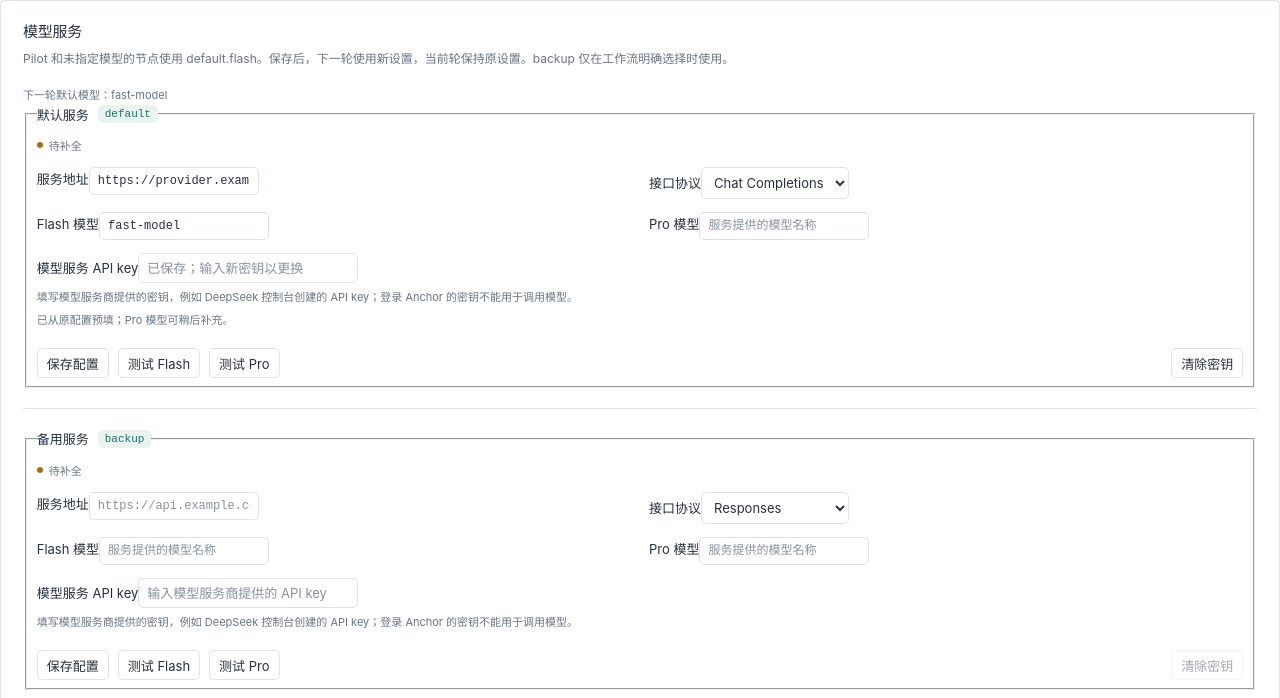
Scenario: Model provider settings › explains the known probe failure model connection test timed out without exposing raw errors
This screenshot has width=1280, height=698.
Click the button "测试 Flash" below "已从原配置预填；Pro 模型可稍后补充。" at (159, 363), box x1=118 y1=348 x2=200 y2=378
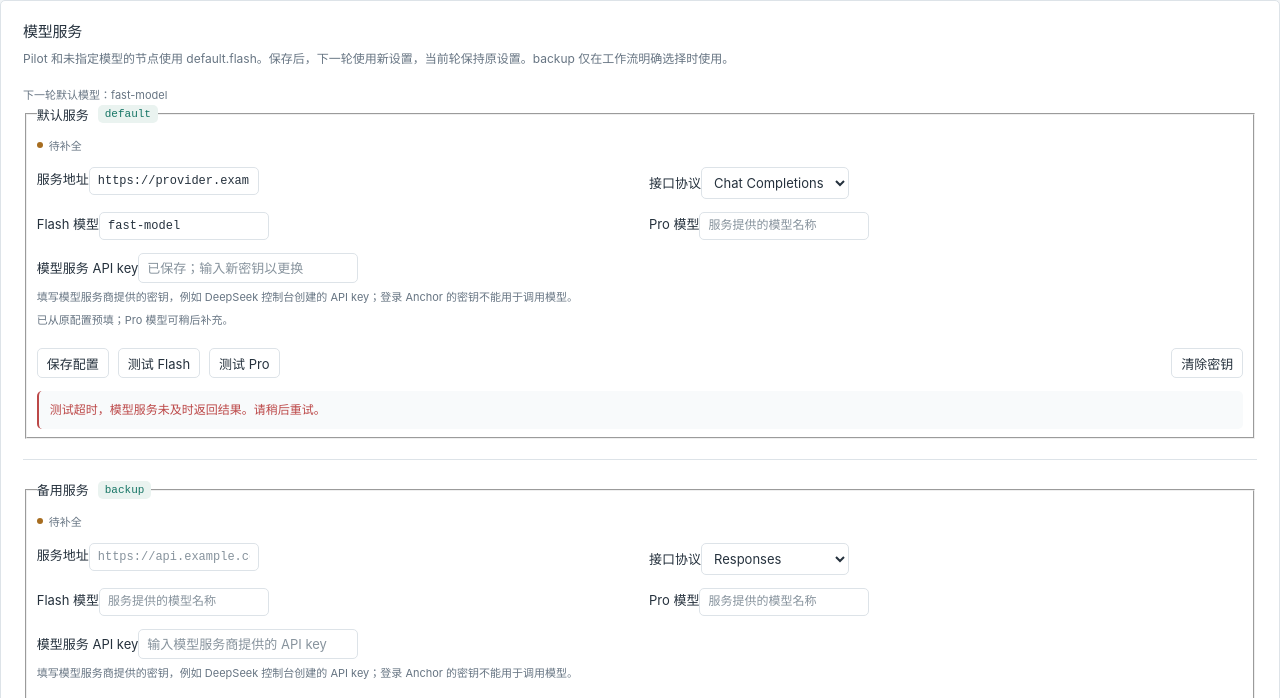
Expected: the message "测试超时，模型服务未及时返回结果。请稍后重试。" is shown, x1=37 y1=391 x2=1243 y2=429
